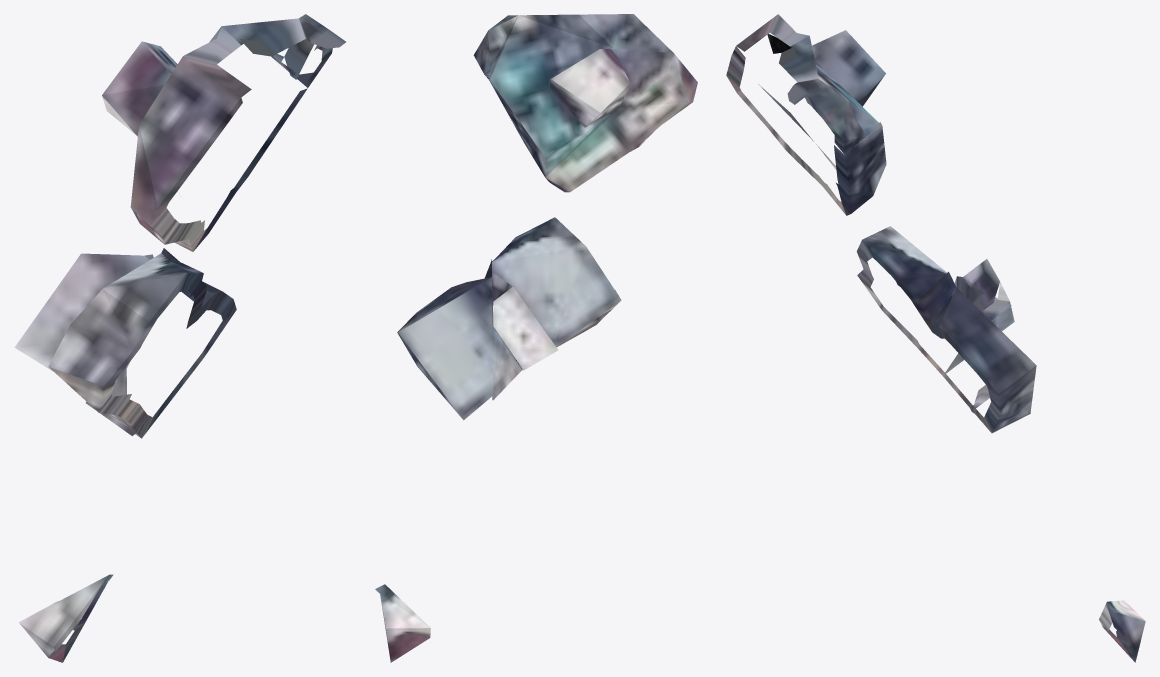
3 renders of one model, left to right at view 1: azimuth 30°, elevation 25°; view 2: azimuth 150°, elevation 25°; view 3: azimuth 270°, elevation 25°, orthographic. The views are drawn at different scales.
Bounding box in the file's own units: 26.11 × 75.48 × 47.38.
1 material, 1 textured.
